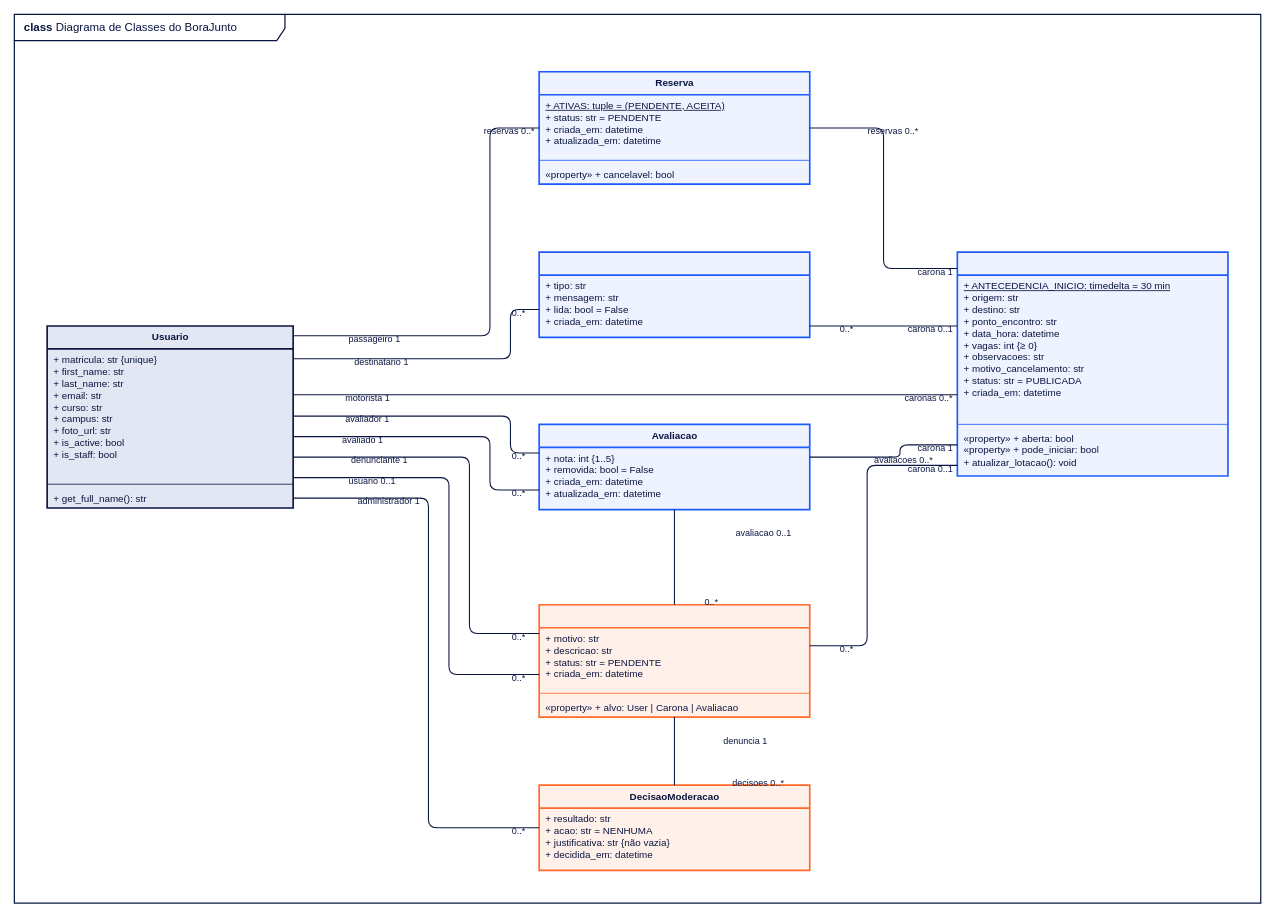
The diagram is 1276 pixels wide and 918 high, and some of its shapes have lost their labels. The shapes that lost their labels are listed below. From the top down, each one's box as (x1, y1, x2, y2) in pixels, then its label:
(538, 251, 810, 338): Notificacao
(956, 251, 1228, 476): Carona
(538, 604, 810, 718): Denuncia
